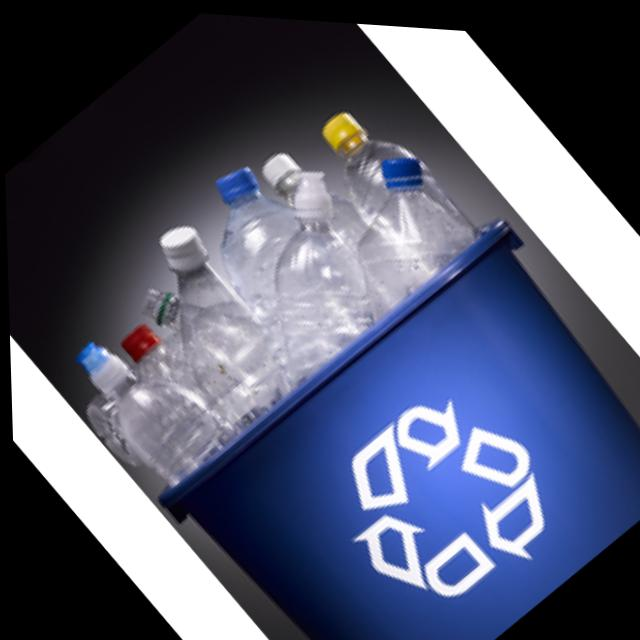plastic_water_bottles: (111, 206, 316, 428), (57, 310, 221, 489), (328, 129, 489, 296)
